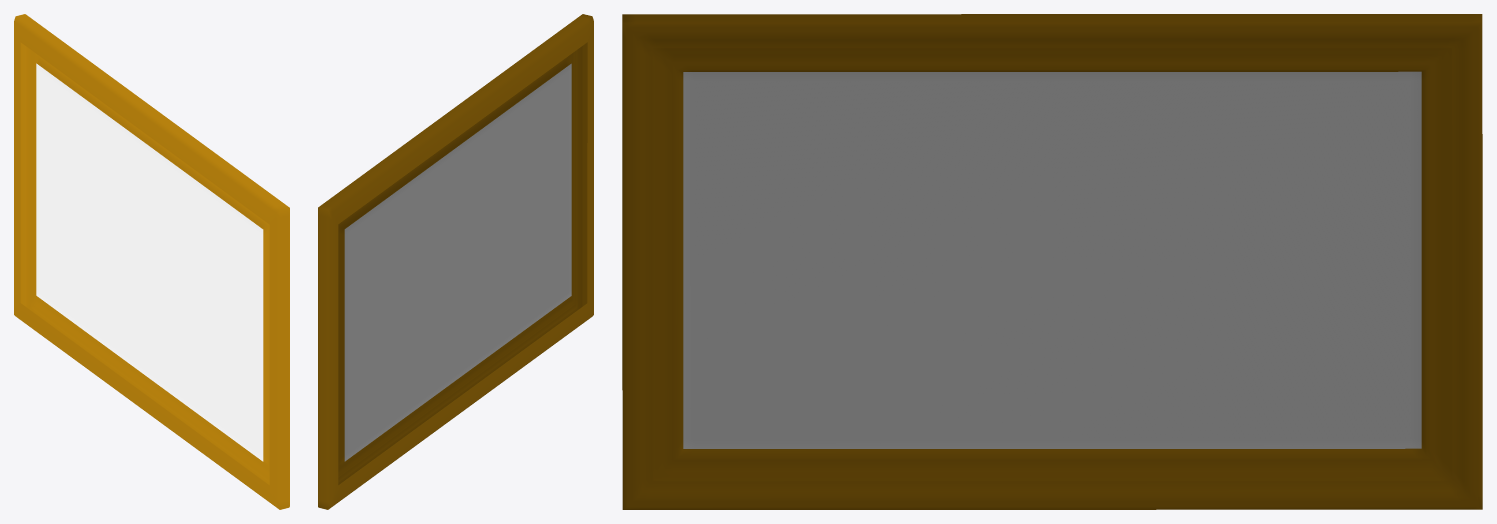
The model's file is Mirror_97fbc052.obj.
The picture shows the model from 3 angles, left to right: view 1: azimuth 30°, elevation 25°; view 2: azimuth 150°, elevation 25°; view 3: azimuth 270°, elevation 25°; orthographic projection. The views are drawn at different scales.
Visible parts, largest first — view 1: MirrorMesh_ecd761a4; view 2: MirrorMesh_ecd761a4; view 3: MirrorMesh_ecd761a4.
Part boxes in pixels (box(x1,y1,x2,y2)): MirrorMesh_ecd761a4: box(14, 14, 289, 509); MirrorMesh_ecd761a4: box(318, 14, 593, 509); MirrorMesh_ecd761a4: box(622, 14, 1482, 509).
Bounding box in the file's own units: 0.0415 × 0.8518 × 1.36.
